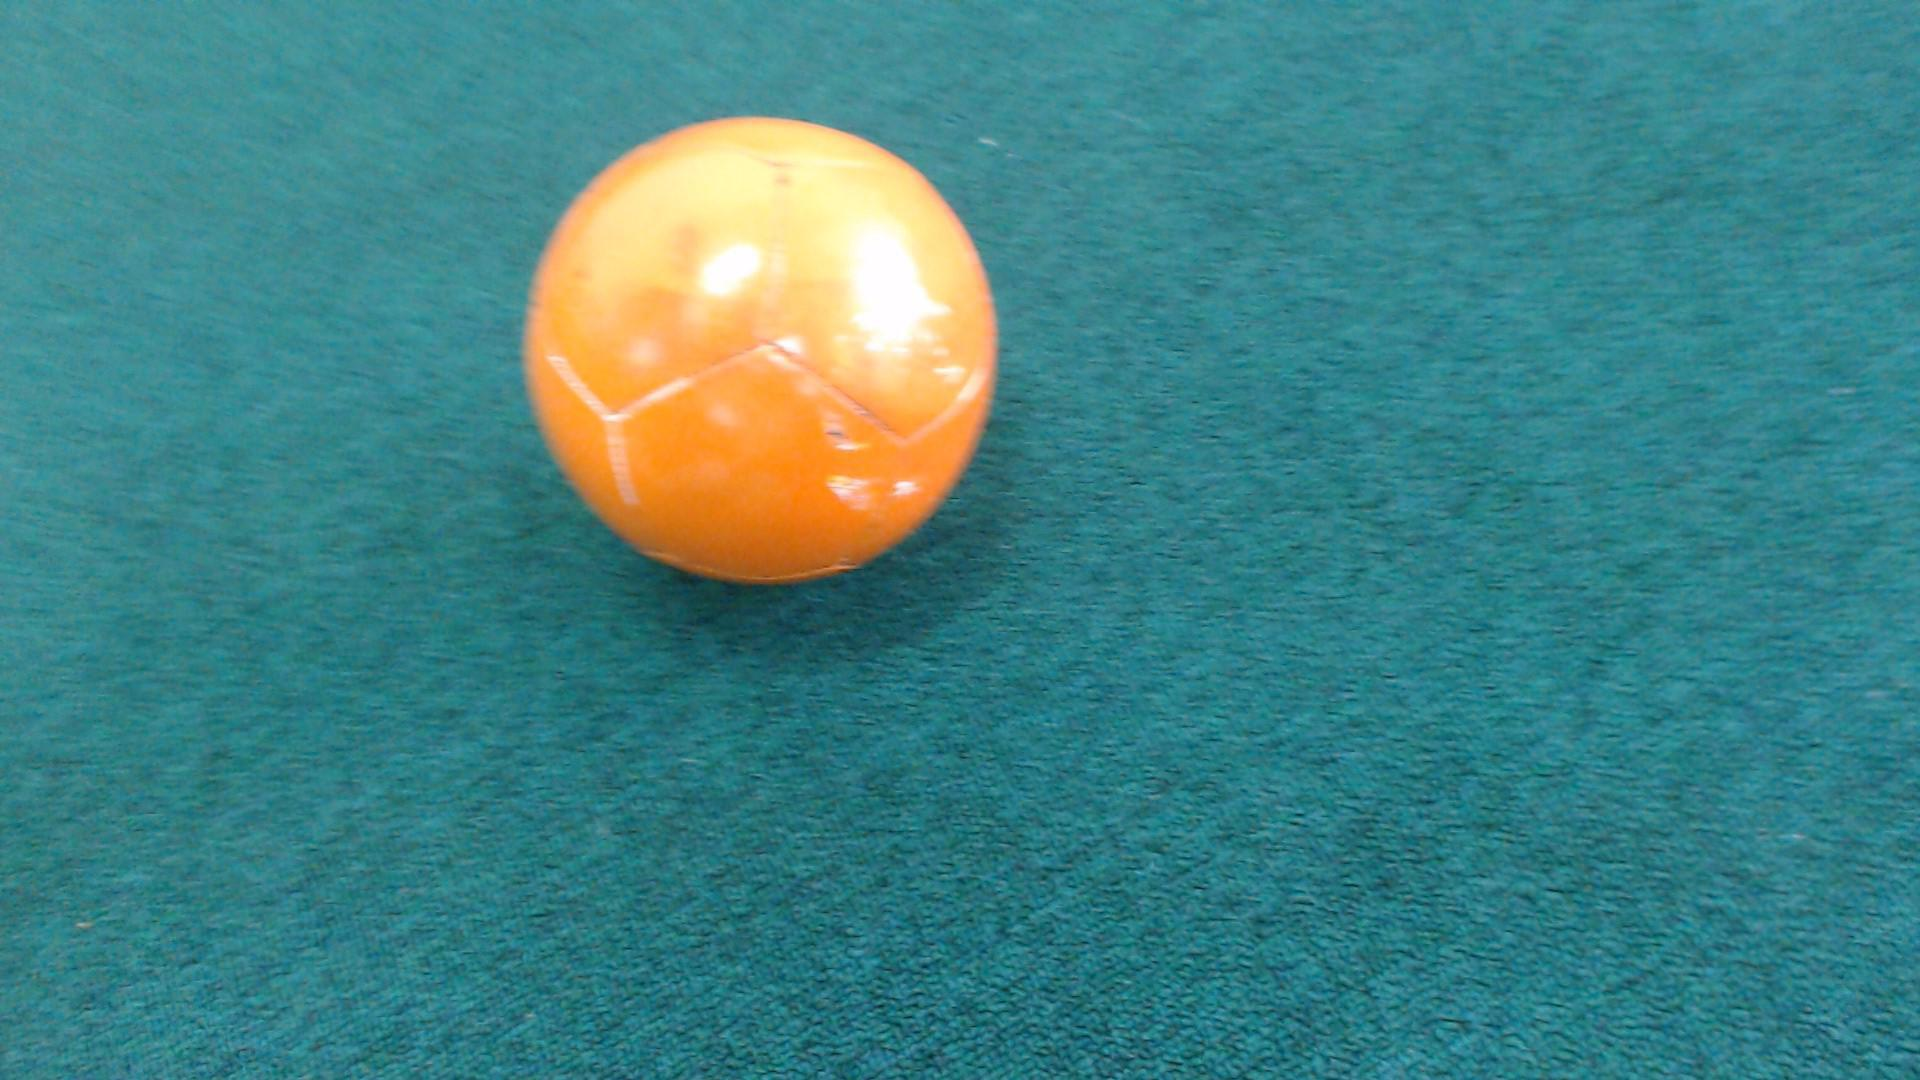bola: (512, 82, 1034, 615)
